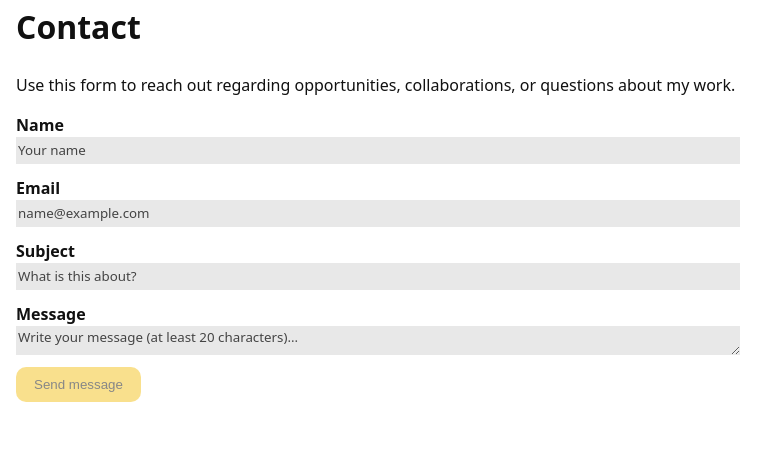
Test: Contact form › shows email format error for invalid email
The width and height of the screenshot is (761, 456).
Type "notanemail" into the field labelled "Email" at (378, 213), box 16,200 -> 740,227
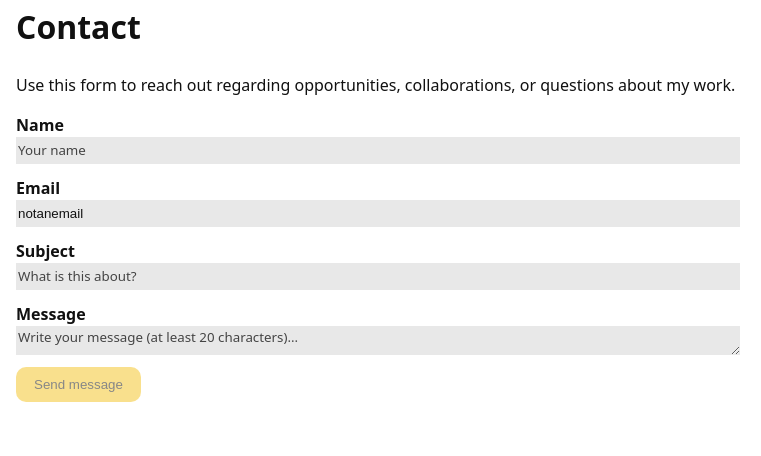
Leave the field labelled "Email", box 16,200 -> 740,227
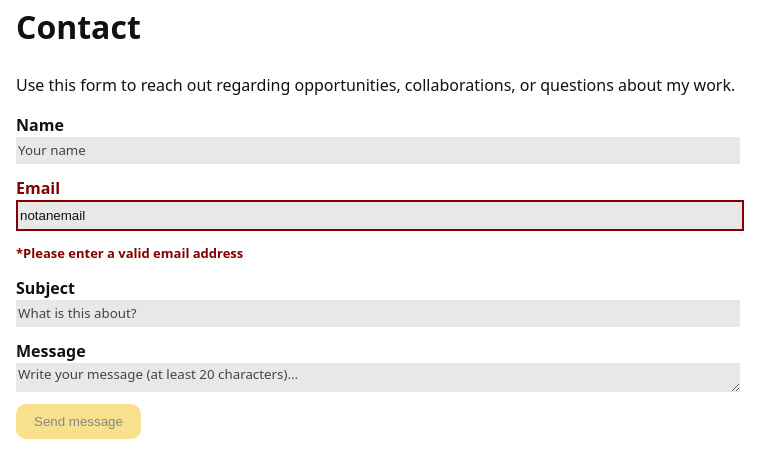
Expected: the text "*Please enter a valid email address" is shown, 16,244 -> 243,262
